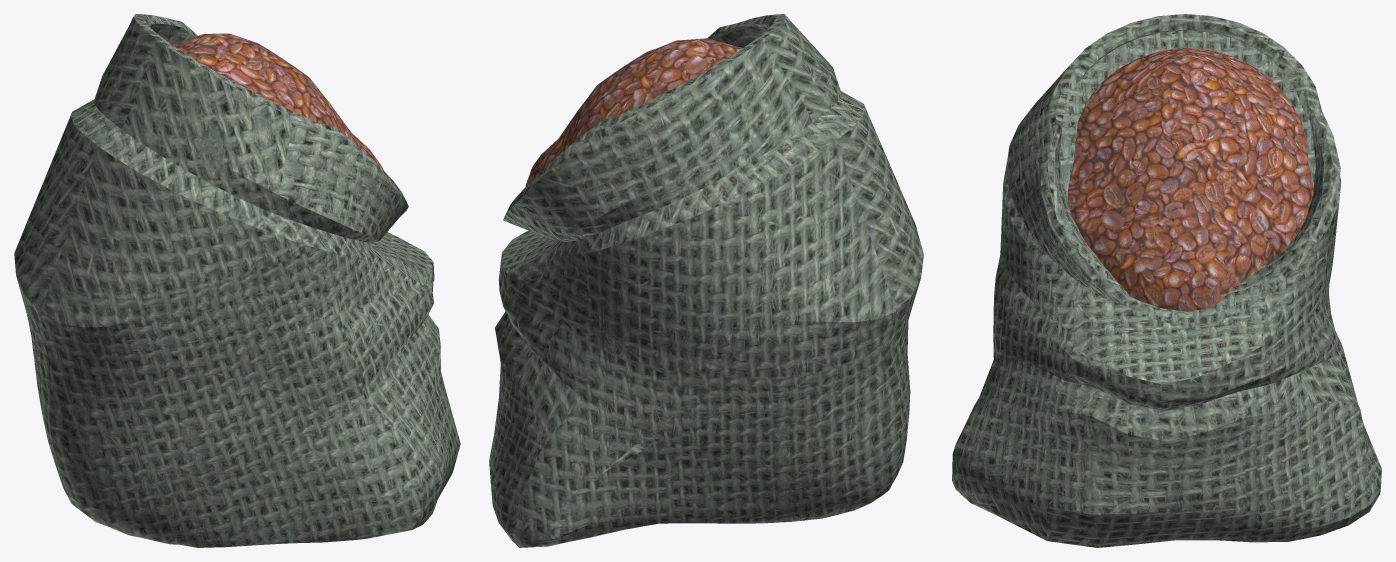
File: saco_de_cafe.fbx
The picture shows the model from 3 angles, left to right: view 1: azimuth 30°, elevation 25°; view 2: azimuth 150°, elevation 25°; view 3: azimuth 270°, elevation 25°; orthographic projection. The views are drawn at different scales.
Parts seen in each view (by area): view 1: Sphere; view 2: Sphere; view 3: Sphere.
Part boxes in pixels (x1,y1,x2,y2): Sphere: [14, 14, 460, 547]; Sphere: [489, 14, 923, 547]; Sphere: [952, 14, 1381, 547].
Bounding box in the file's own units: 256 × 290 × 248.
